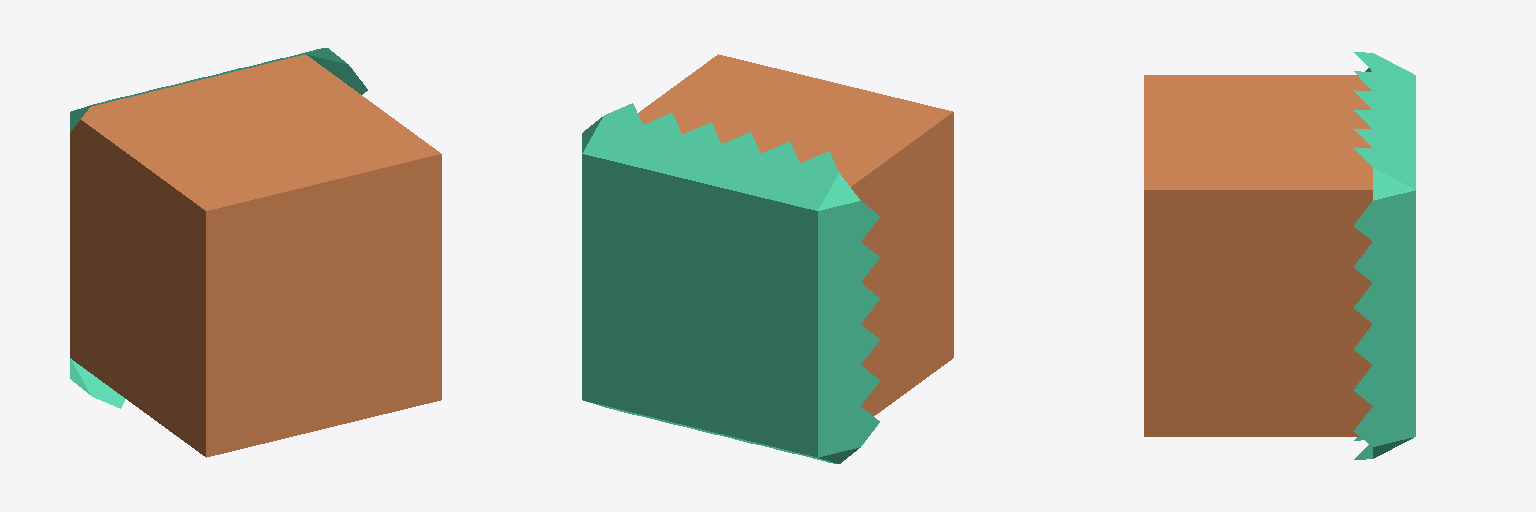
Rendered from block.001.obj.
3 renders of one model, left to right at view 1: azimuth 30°, elevation 25°; view 2: azimuth 150°, elevation 25°; view 3: azimuth 270°, elevation 25°, orthographic.
Parts seen in each view (by area): view 1: block; view 2: block; view 3: block.
Part boxes in pixels (bbox=[...]): block: bbox=[70, 48, 441, 457]; block: bbox=[582, 54, 953, 463]; block: bbox=[1144, 52, 1415, 459].
Bounding box in the file's own units: 1.27 × 1.27 × 1.